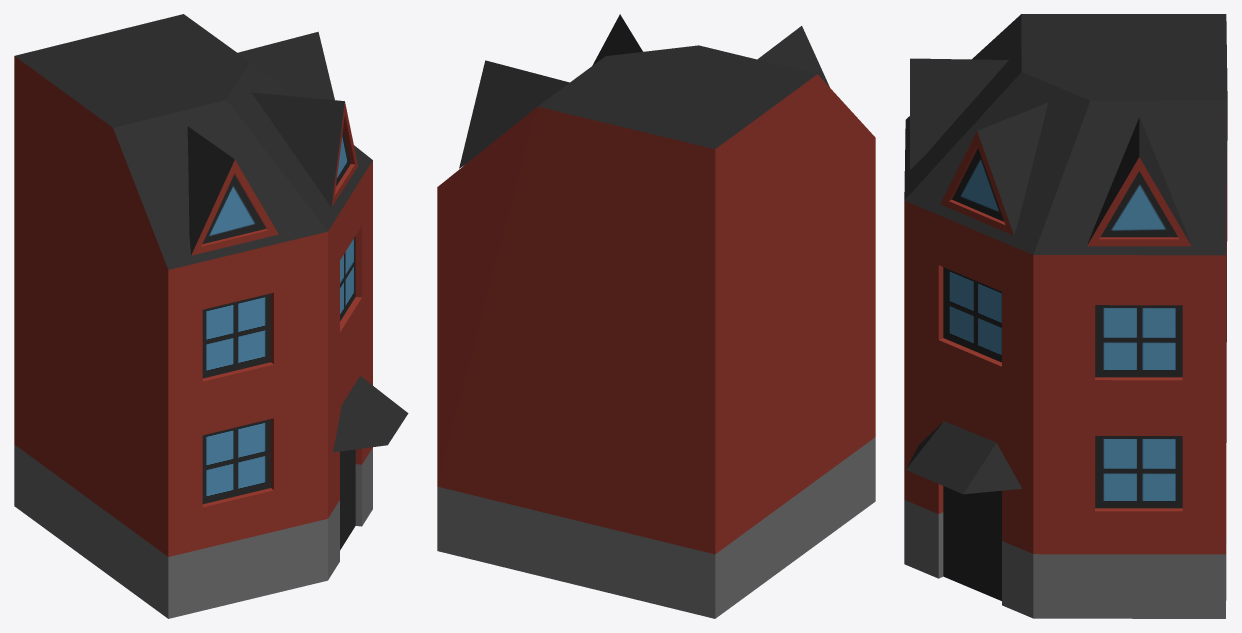
Rendered from CornerTriangleRed.obj.
3 views of the same model, side by side, from view 1: azimuth 30°, elevation 25°; view 2: azimuth 150°, elevation 25°; view 3: azimuth 270°, elevation 25° (orthographic). The views are drawn at different scales.
Parts seen in each view (by area): view 1: naroznikTrojkatCzerwony; view 2: naroznikTrojkatCzerwony; view 3: naroznikTrojkatCzerwony.
Boxes of the visible parts, x1,y1,x2,y2 form: naroznikTrojkatCzerwony: [14, 14, 408, 618]; naroznikTrojkatCzerwony: [437, 14, 875, 618]; naroznikTrojkatCzerwony: [904, 14, 1227, 618].
Bounding box in the file's own units: 5.02 × 8.07 × 5.03.
